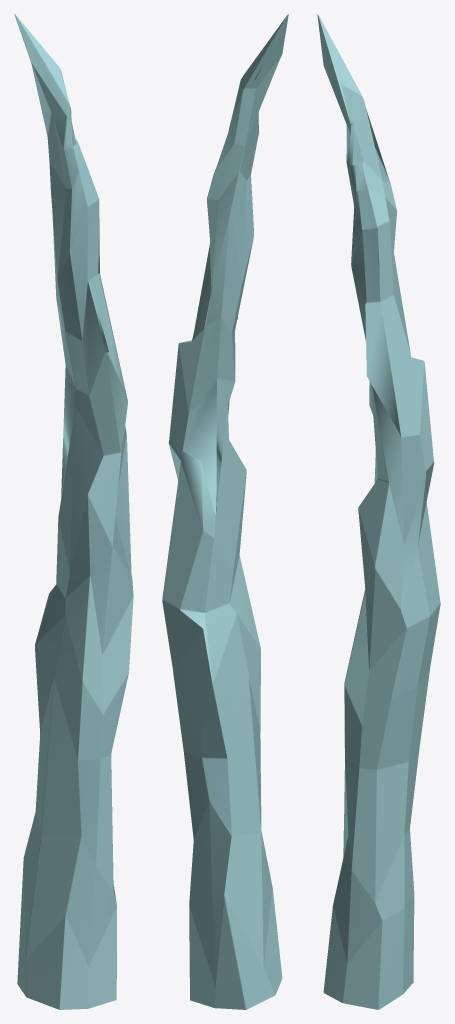
File: IceTree_Branch_02.fbx
3 views of the same model, side by side, from view 1: azimuth 30°, elevation 25°; view 2: azimuth 150°, elevation 25°; view 3: azimuth 330°, elevation 25° (orthographic). The views are drawn at different scales.
Parts seen in each view (by area): view 1: Branch_02; view 2: Branch_02; view 3: Branch_02.
Part boxes in pixels (left/top/right/bottom): Branch_02: left=14, top=14, right=133, bottom=1009; Branch_02: left=162, top=14, right=288, bottom=1009; Branch_02: left=317, top=14, right=440, bottom=1009.
Size of the model in its own units: 27.22 by 230 by 21.8.
